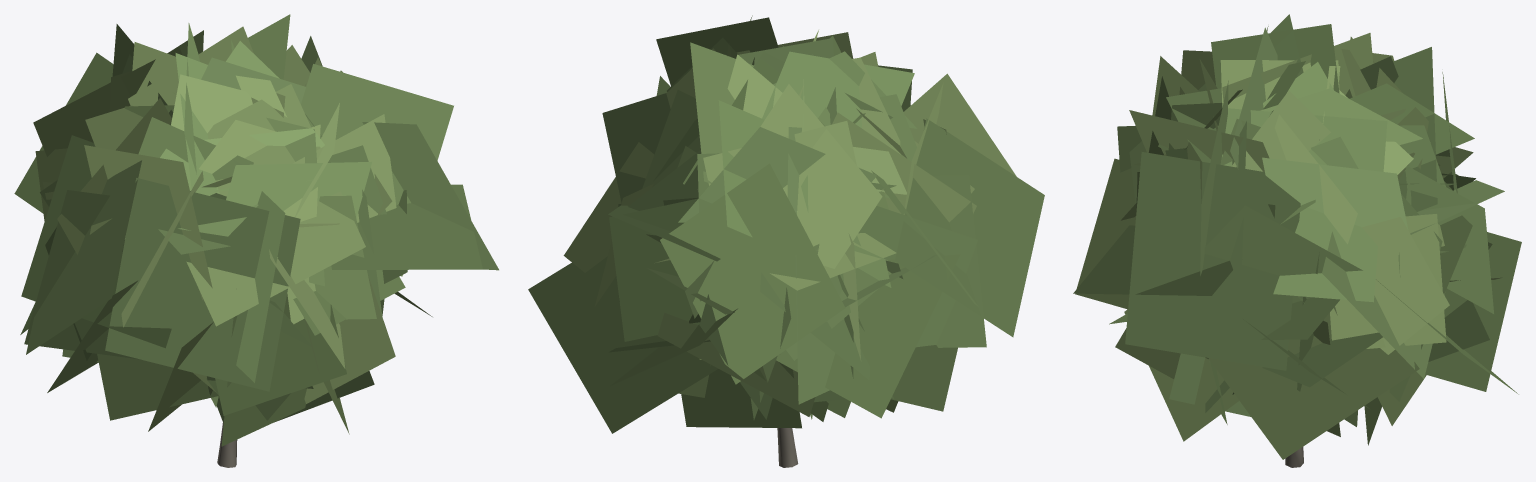
Rendered from ash_lod1.glb.
3 views of the same model, side by side, from view 1: azimuth 30°, elevation 25°; view 2: azimuth 150°, elevation 25°; view 3: azimuth 270°, elevation 25° (orthographic).
Parts seen in each view (by area): view 1: ash_lod1; view 2: ash_lod1; view 3: ash_lod1.
Boxes of the visible parts, left/top/right/bottom form: ash_lod1: left=14, top=14, right=498, bottom=467; ash_lod1: left=528, top=15, right=1044, bottom=467; ash_lod1: left=1073, top=14, right=1521, bottom=467.
Size of the model in its own units: 1 by 1 by 0.9449.
